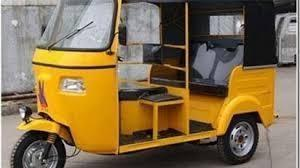keke: (12, 0, 280, 168)
